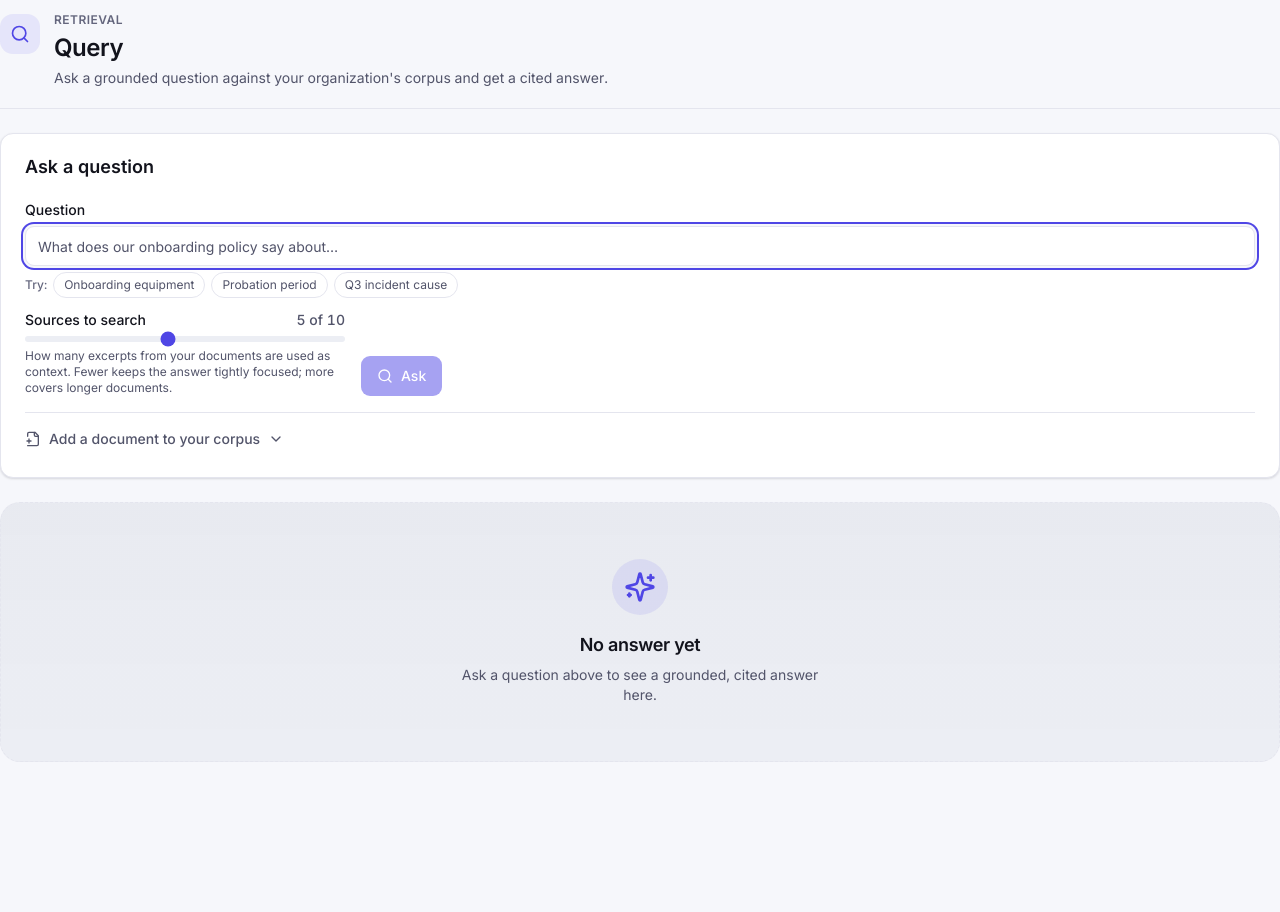
Test case: RagQueryView (MSW) › submit renders answer + provider (7.1, 7.6)
Type "what is the policy" into the field with test id "query-input" at (640, 246), box [25, 226, 1255, 266]
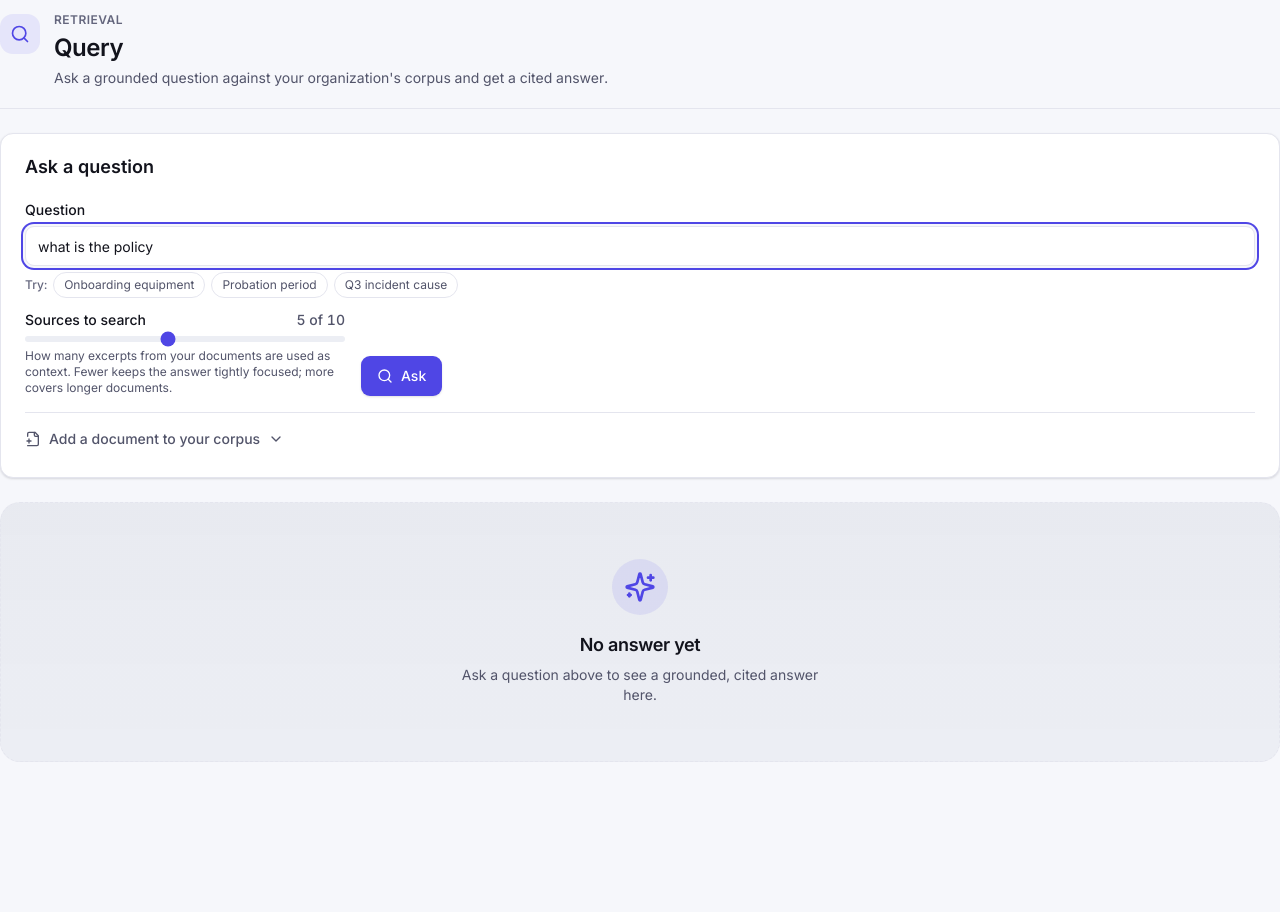
Click the button with test id "query-submit" at (402, 376), box [361, 356, 442, 396]
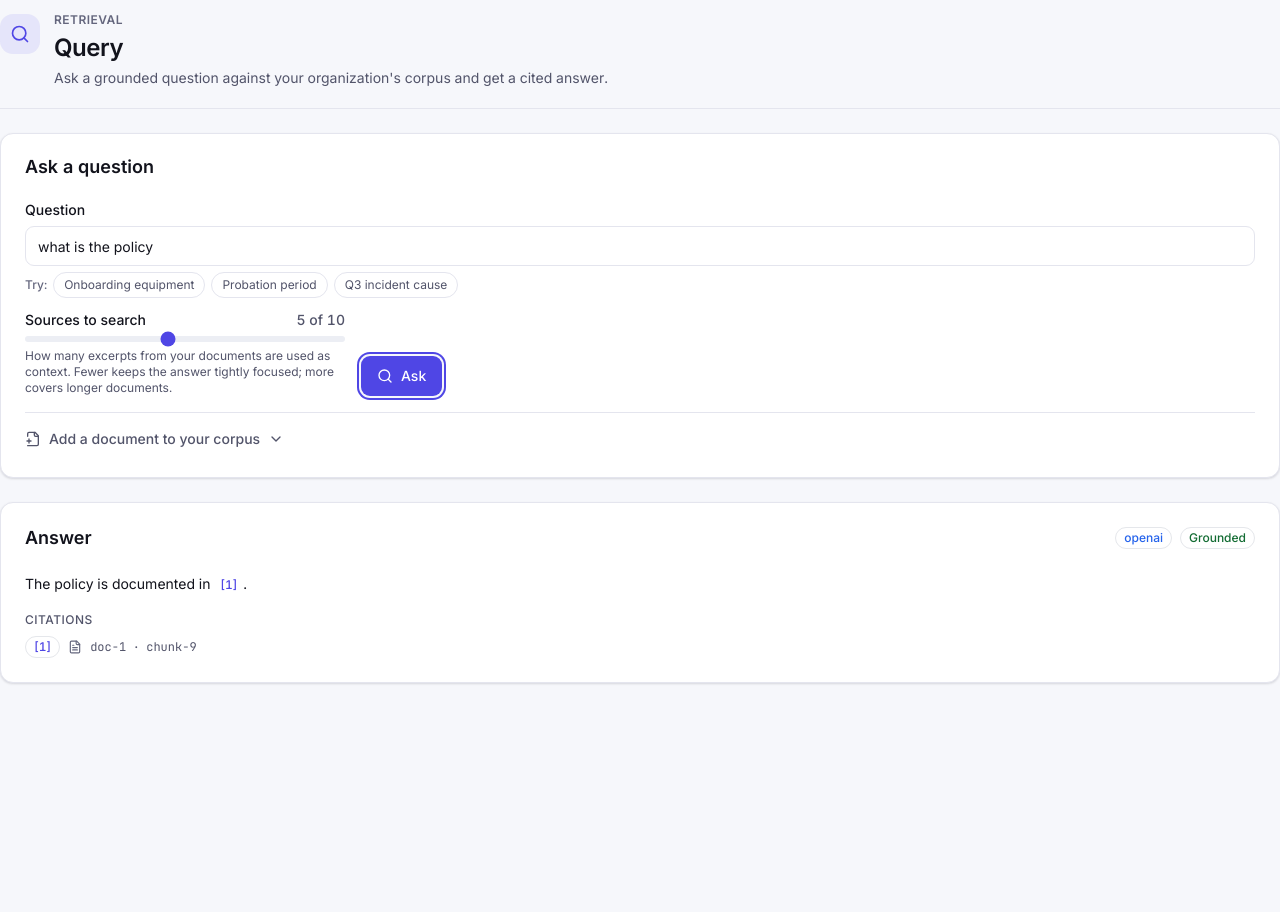
Check: the element with test id "query-answer-card" is shown, box [0, 502, 1279, 683]
Check: the text with test id "answer-provider" reads "openai", box [1124, 530, 1163, 545]
Check: the element with test id "answer-body" shows "The policy is documented in", box [25, 575, 214, 592]
